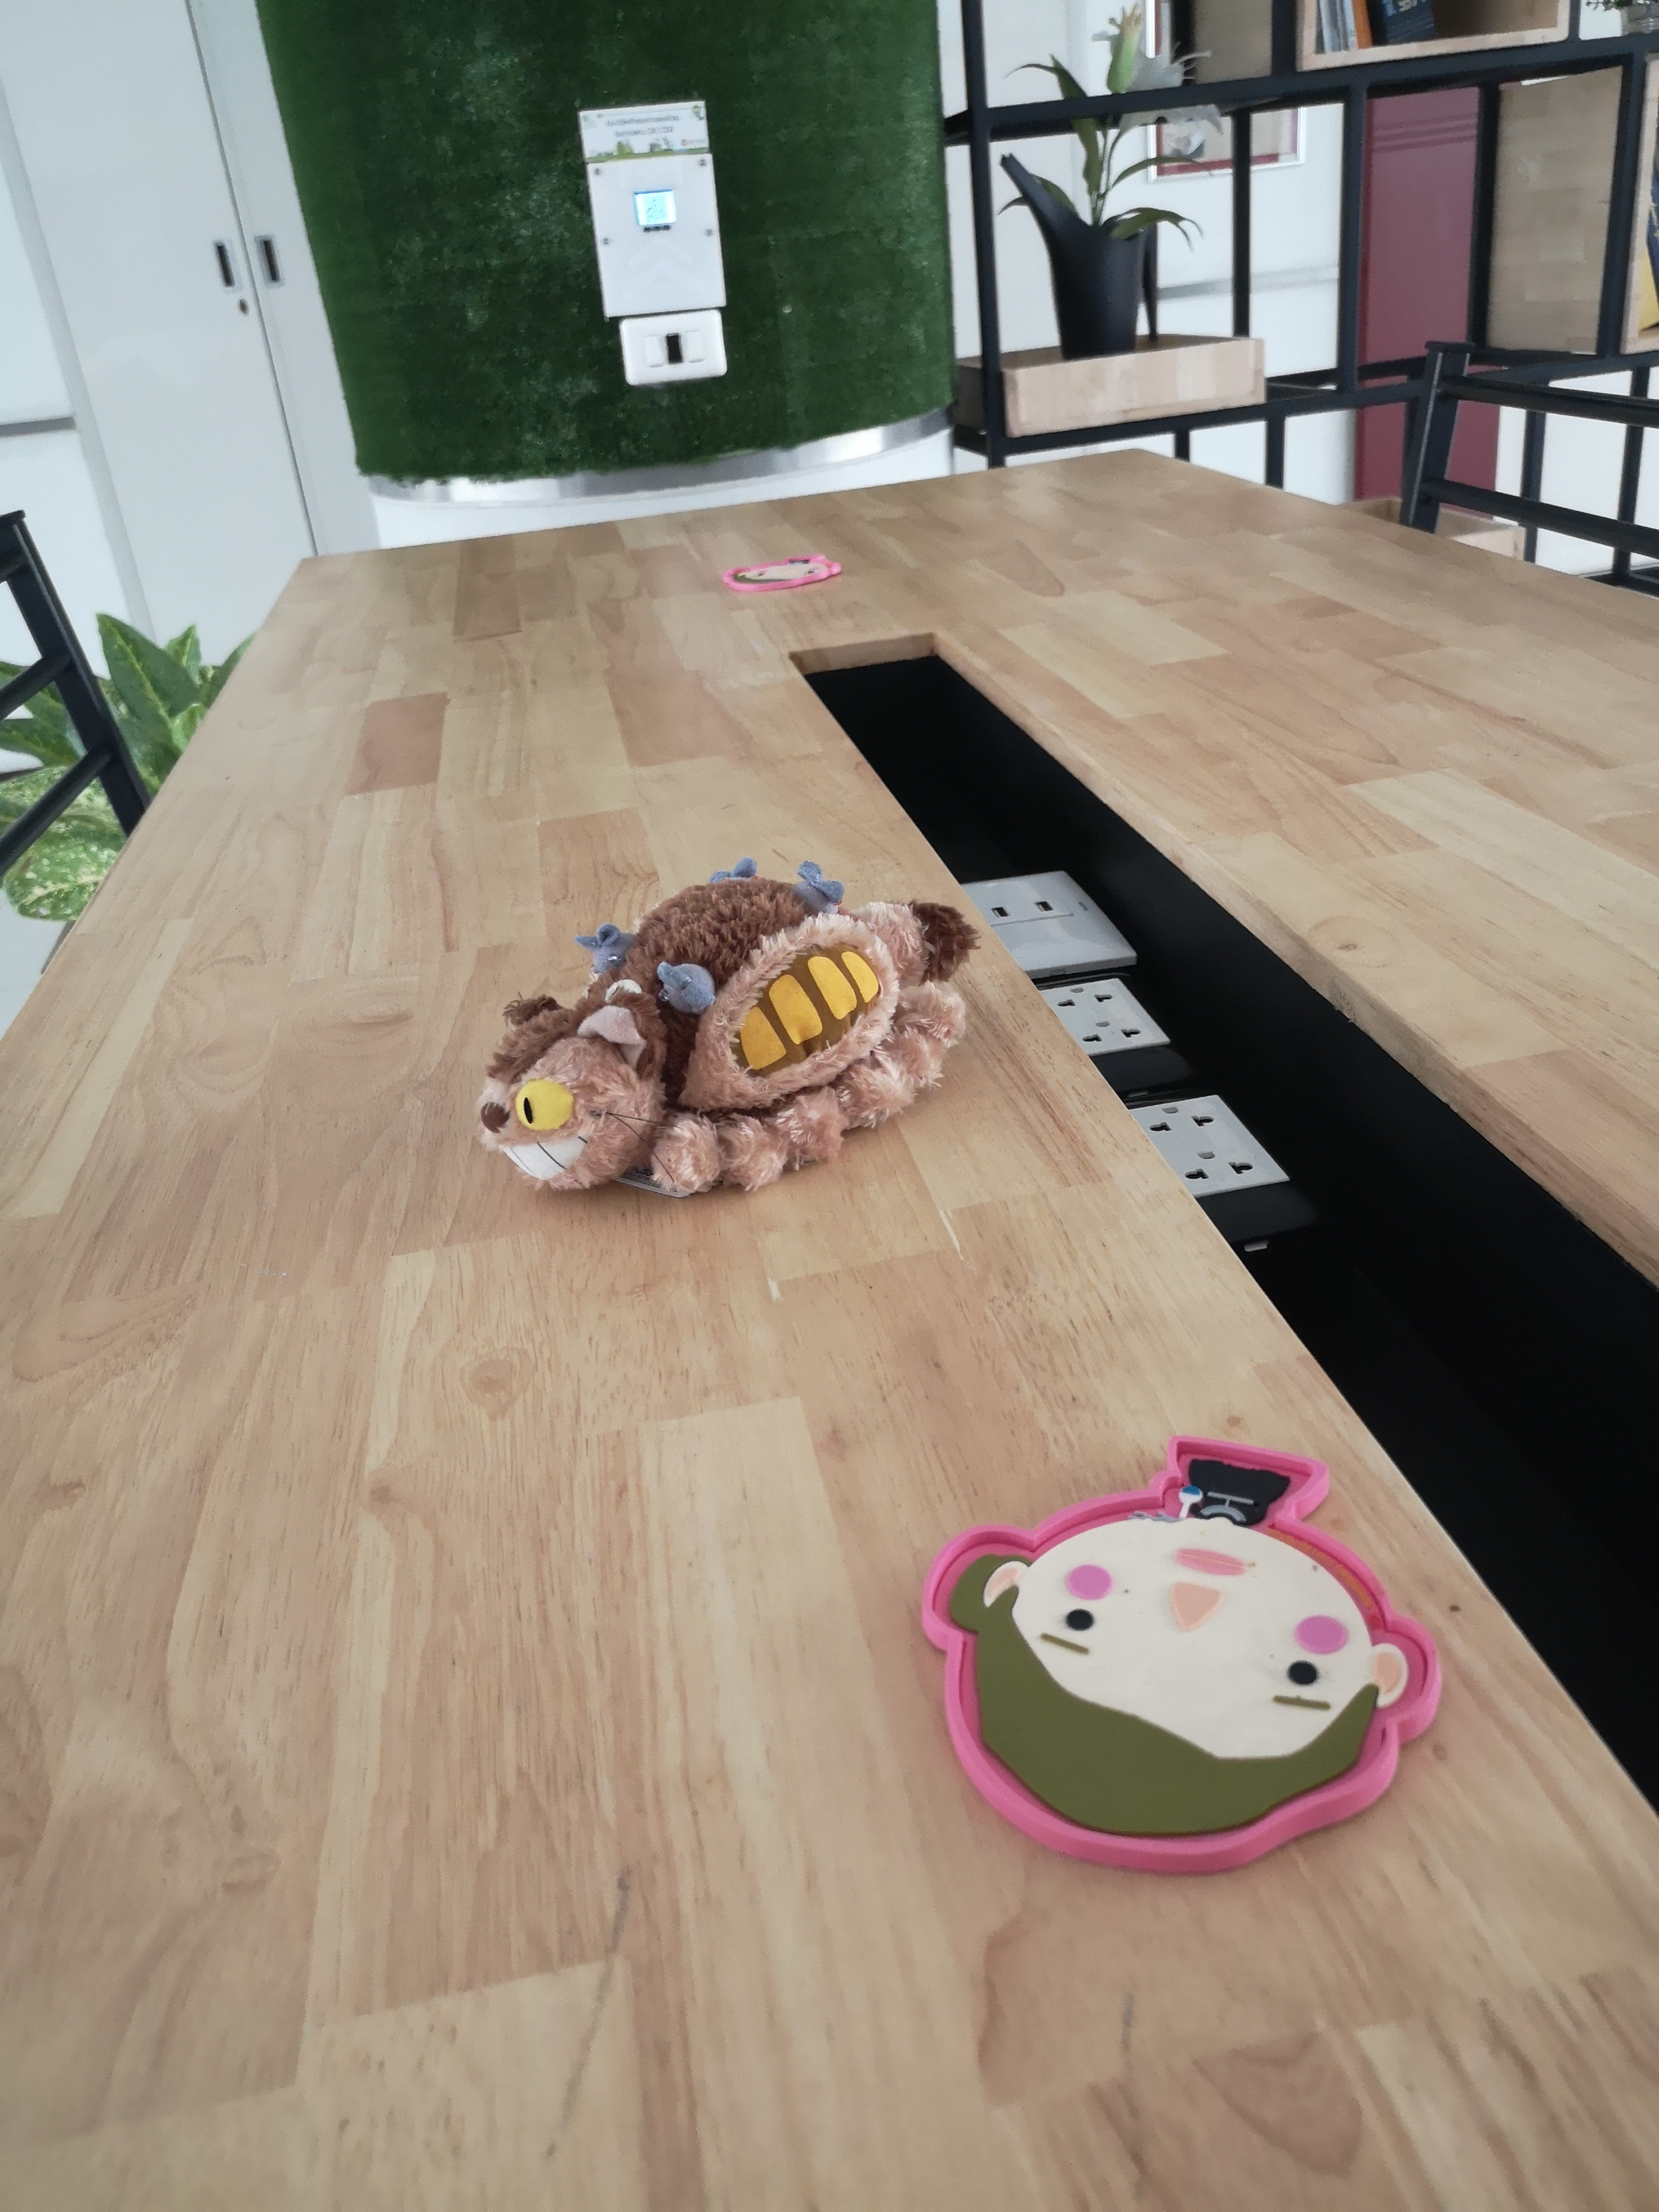nekobus: (469, 843, 979, 1211)
